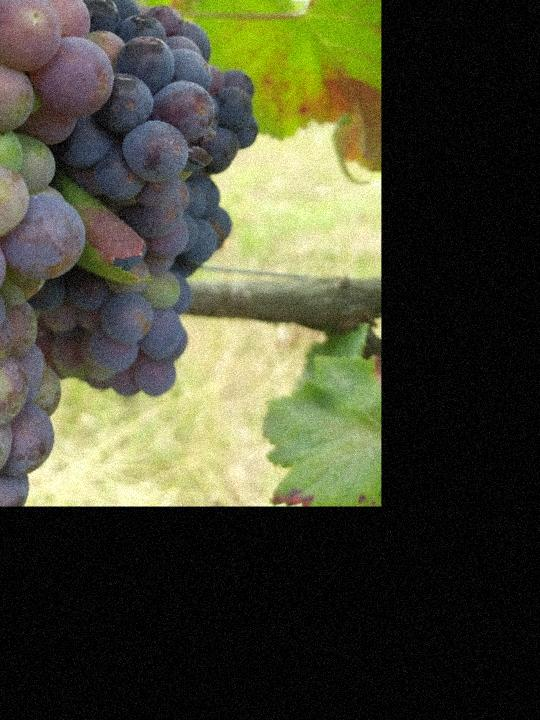grape: (33, 0, 260, 403), (0, 0, 120, 507)
